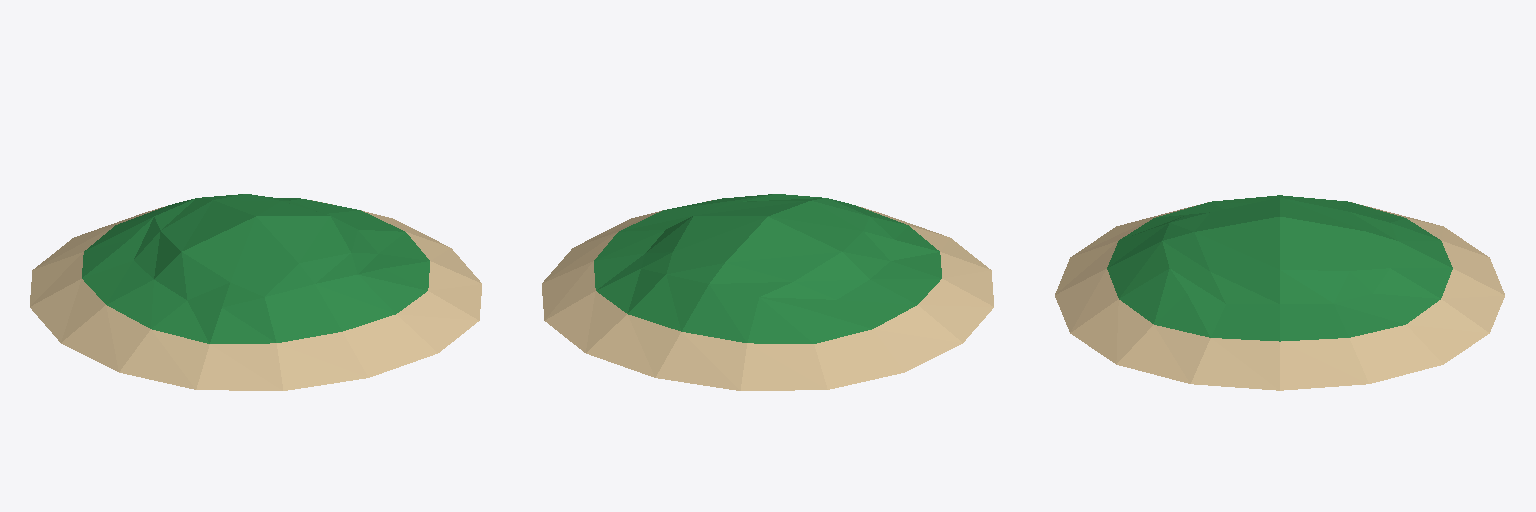
The model's file is Island01.obj.
3 renders of one model, left to right at view 1: azimuth 30°, elevation 25°; view 2: azimuth 150°, elevation 25°; view 3: azimuth 270°, elevation 25°, orthographic.
Visible parts, largest first — view 1: Cube.002; view 2: Cube.002; view 3: Cube.002.
Part boxes in pixels (x1,y1,x2,y2): Cube.002: (30, 194, 481, 390); Cube.002: (542, 194, 993, 390); Cube.002: (1055, 195, 1504, 390).
Bounding box in the file's own units: 46.81 × 9.06 × 46.81.